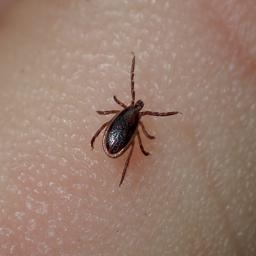Ixodes scapularis: (131, 54, 205, 164)
